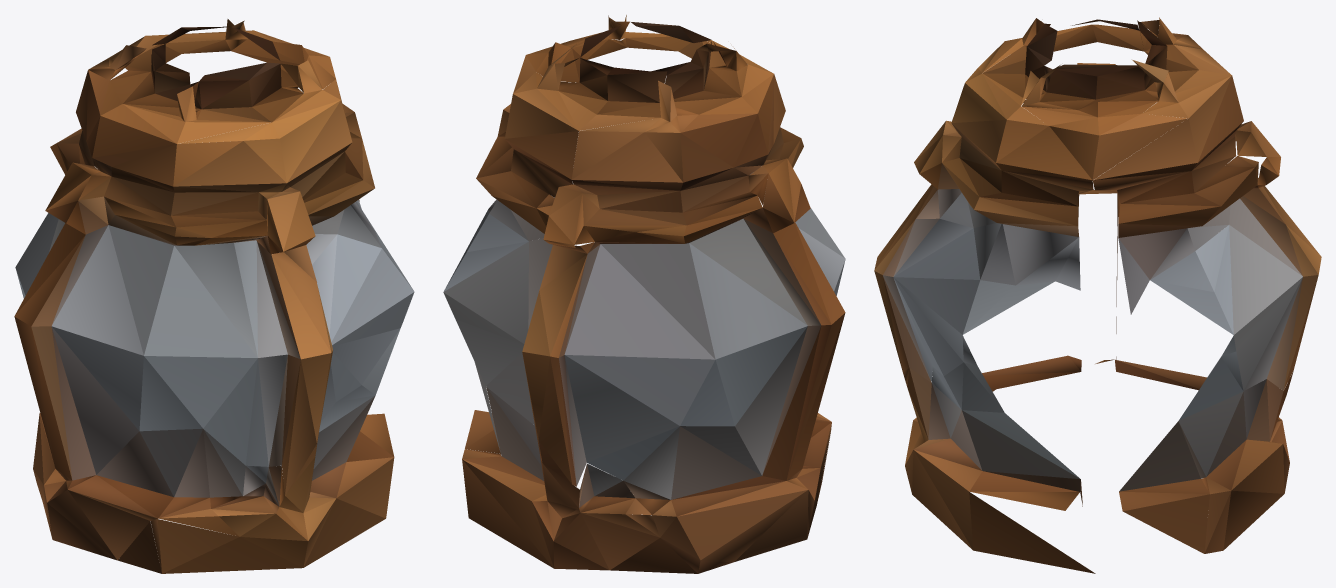
The model's file is building-circuitLamp-wallLamp.glb.
The picture shows the model from 3 angles, left to right: view 1: azimuth 30°, elevation 25°; view 2: azimuth 150°, elevation 25°; view 3: azimuth 270°, elevation 25°; orthographic projection.
Parts seen in each view (by area): view 1: 0_circuitLamp-wallLamp; view 2: 0_circuitLamp-wallLamp; view 3: 0_circuitLamp-wallLamp.
Boxes of the visible parts, x1,y1,x2,y2 form: 0_circuitLamp-wallLamp: (14, 19, 414, 573); 0_circuitLamp-wallLamp: (443, 15, 845, 573); 0_circuitLamp-wallLamp: (874, 17, 1321, 573).
Size of the model in its own units: 0.5104 by 0.6338 by 0.5579.
